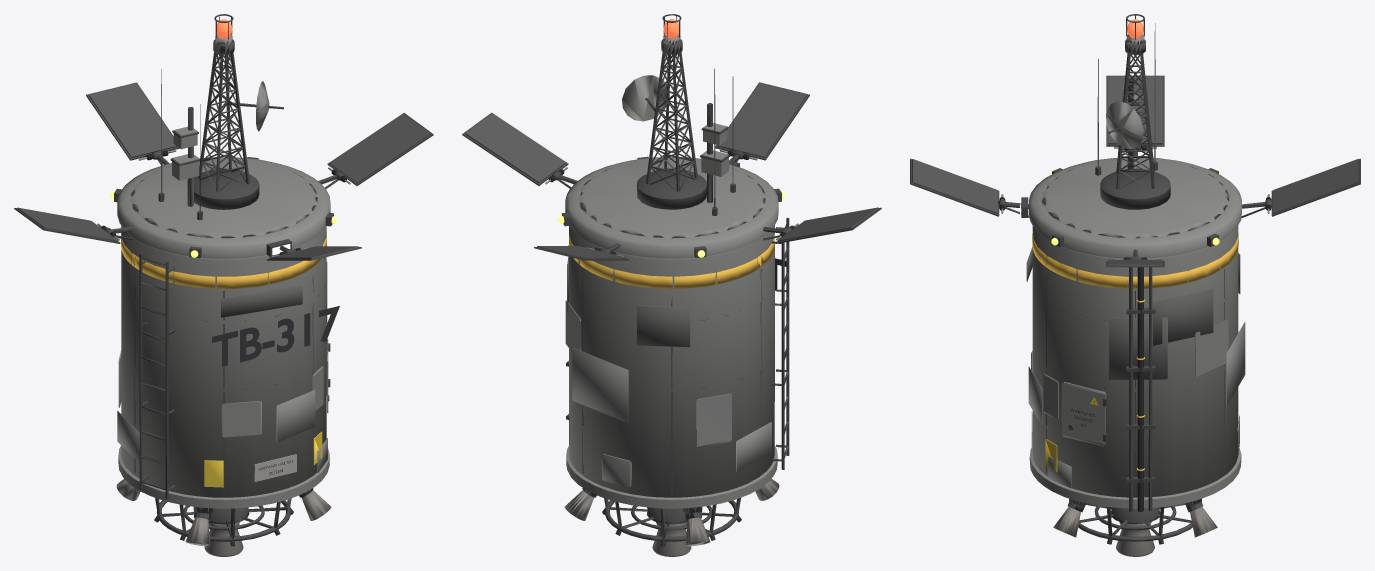
The model's file is Navigationsboje.d02a5f8ecb.glb.
The picture shows the model from 3 angles, left to right: view 1: azimuth 30°, elevation 25°; view 2: azimuth 150°, elevation 25°; view 3: azimuth 270°, elevation 25°; orthographic projection.
Visible parts, largest first — view 1: Navigationsboje_lack, Navigationsboje_matt, Navigationsboje_metall, Navigationsboje_schrift, Navigationsboje_warn; view 2: Navigationsboje_lack, Navigationsboje_matt, Navigationsboje_metall; view 3: Navigationsboje_lack, Navigationsboje_matt, Navigationsboje_metall.
Boxes of the visible parts, x1,y1,x2,y2 form: Navigationsboje_lack: (14,14,433,541); Navigationsboje_matt: (121,231,326,546); Navigationsboje_metall: (97,150,350,556); Navigationsboje_schrift: (212,306,339,475); Navigationsboje_warn: (204,431,322,487); Navigationsboje_lack: (462,14,881,541); Navigationsboje_matt: (569,234,774,546); Navigationsboje_metall: (545,150,798,556); Navigationsboje_lack: (910,14,1360,541); Navigationsboje_matt: (1032,231,1238,544); Navigationsboje_metall: (999,145,1271,556).
Size of the model in its own units: 4.61 by 5.99 by 4.61.
